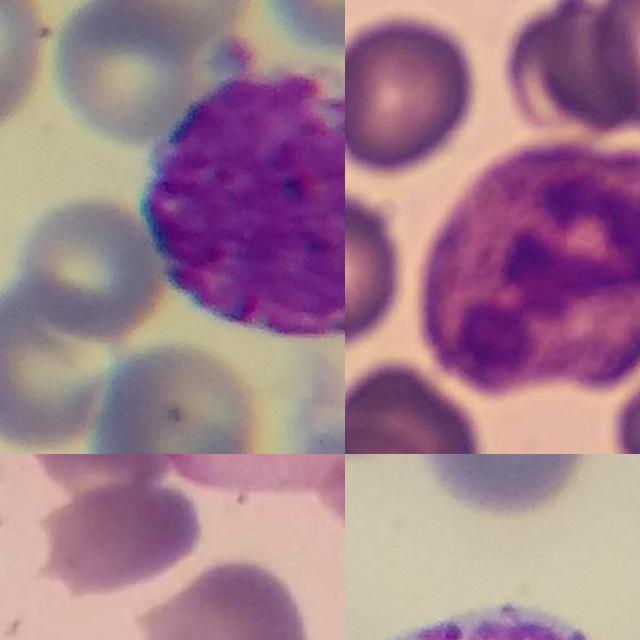Basophil: (143, 63, 345, 342), (345, 599, 635, 640)
Neutrophil: (422, 145, 640, 400)
